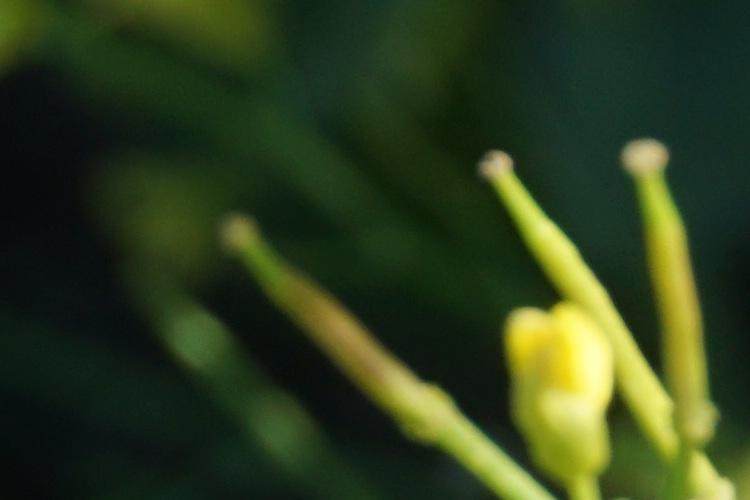pod: (203, 222, 474, 449), (479, 146, 684, 446), (608, 118, 726, 437)
yellow: (494, 302, 623, 475)
